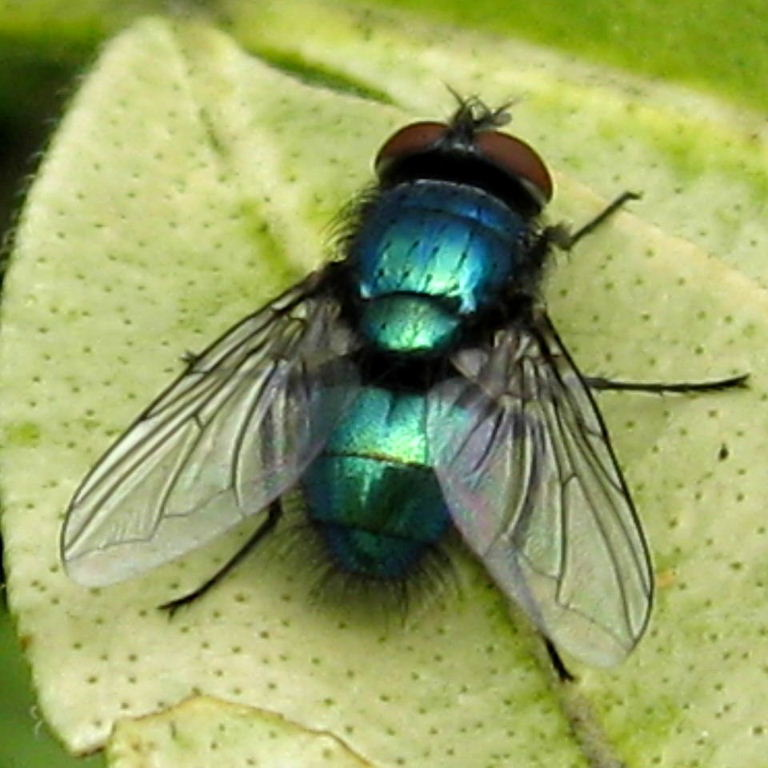green bottles flies: (34, 17, 747, 680)
